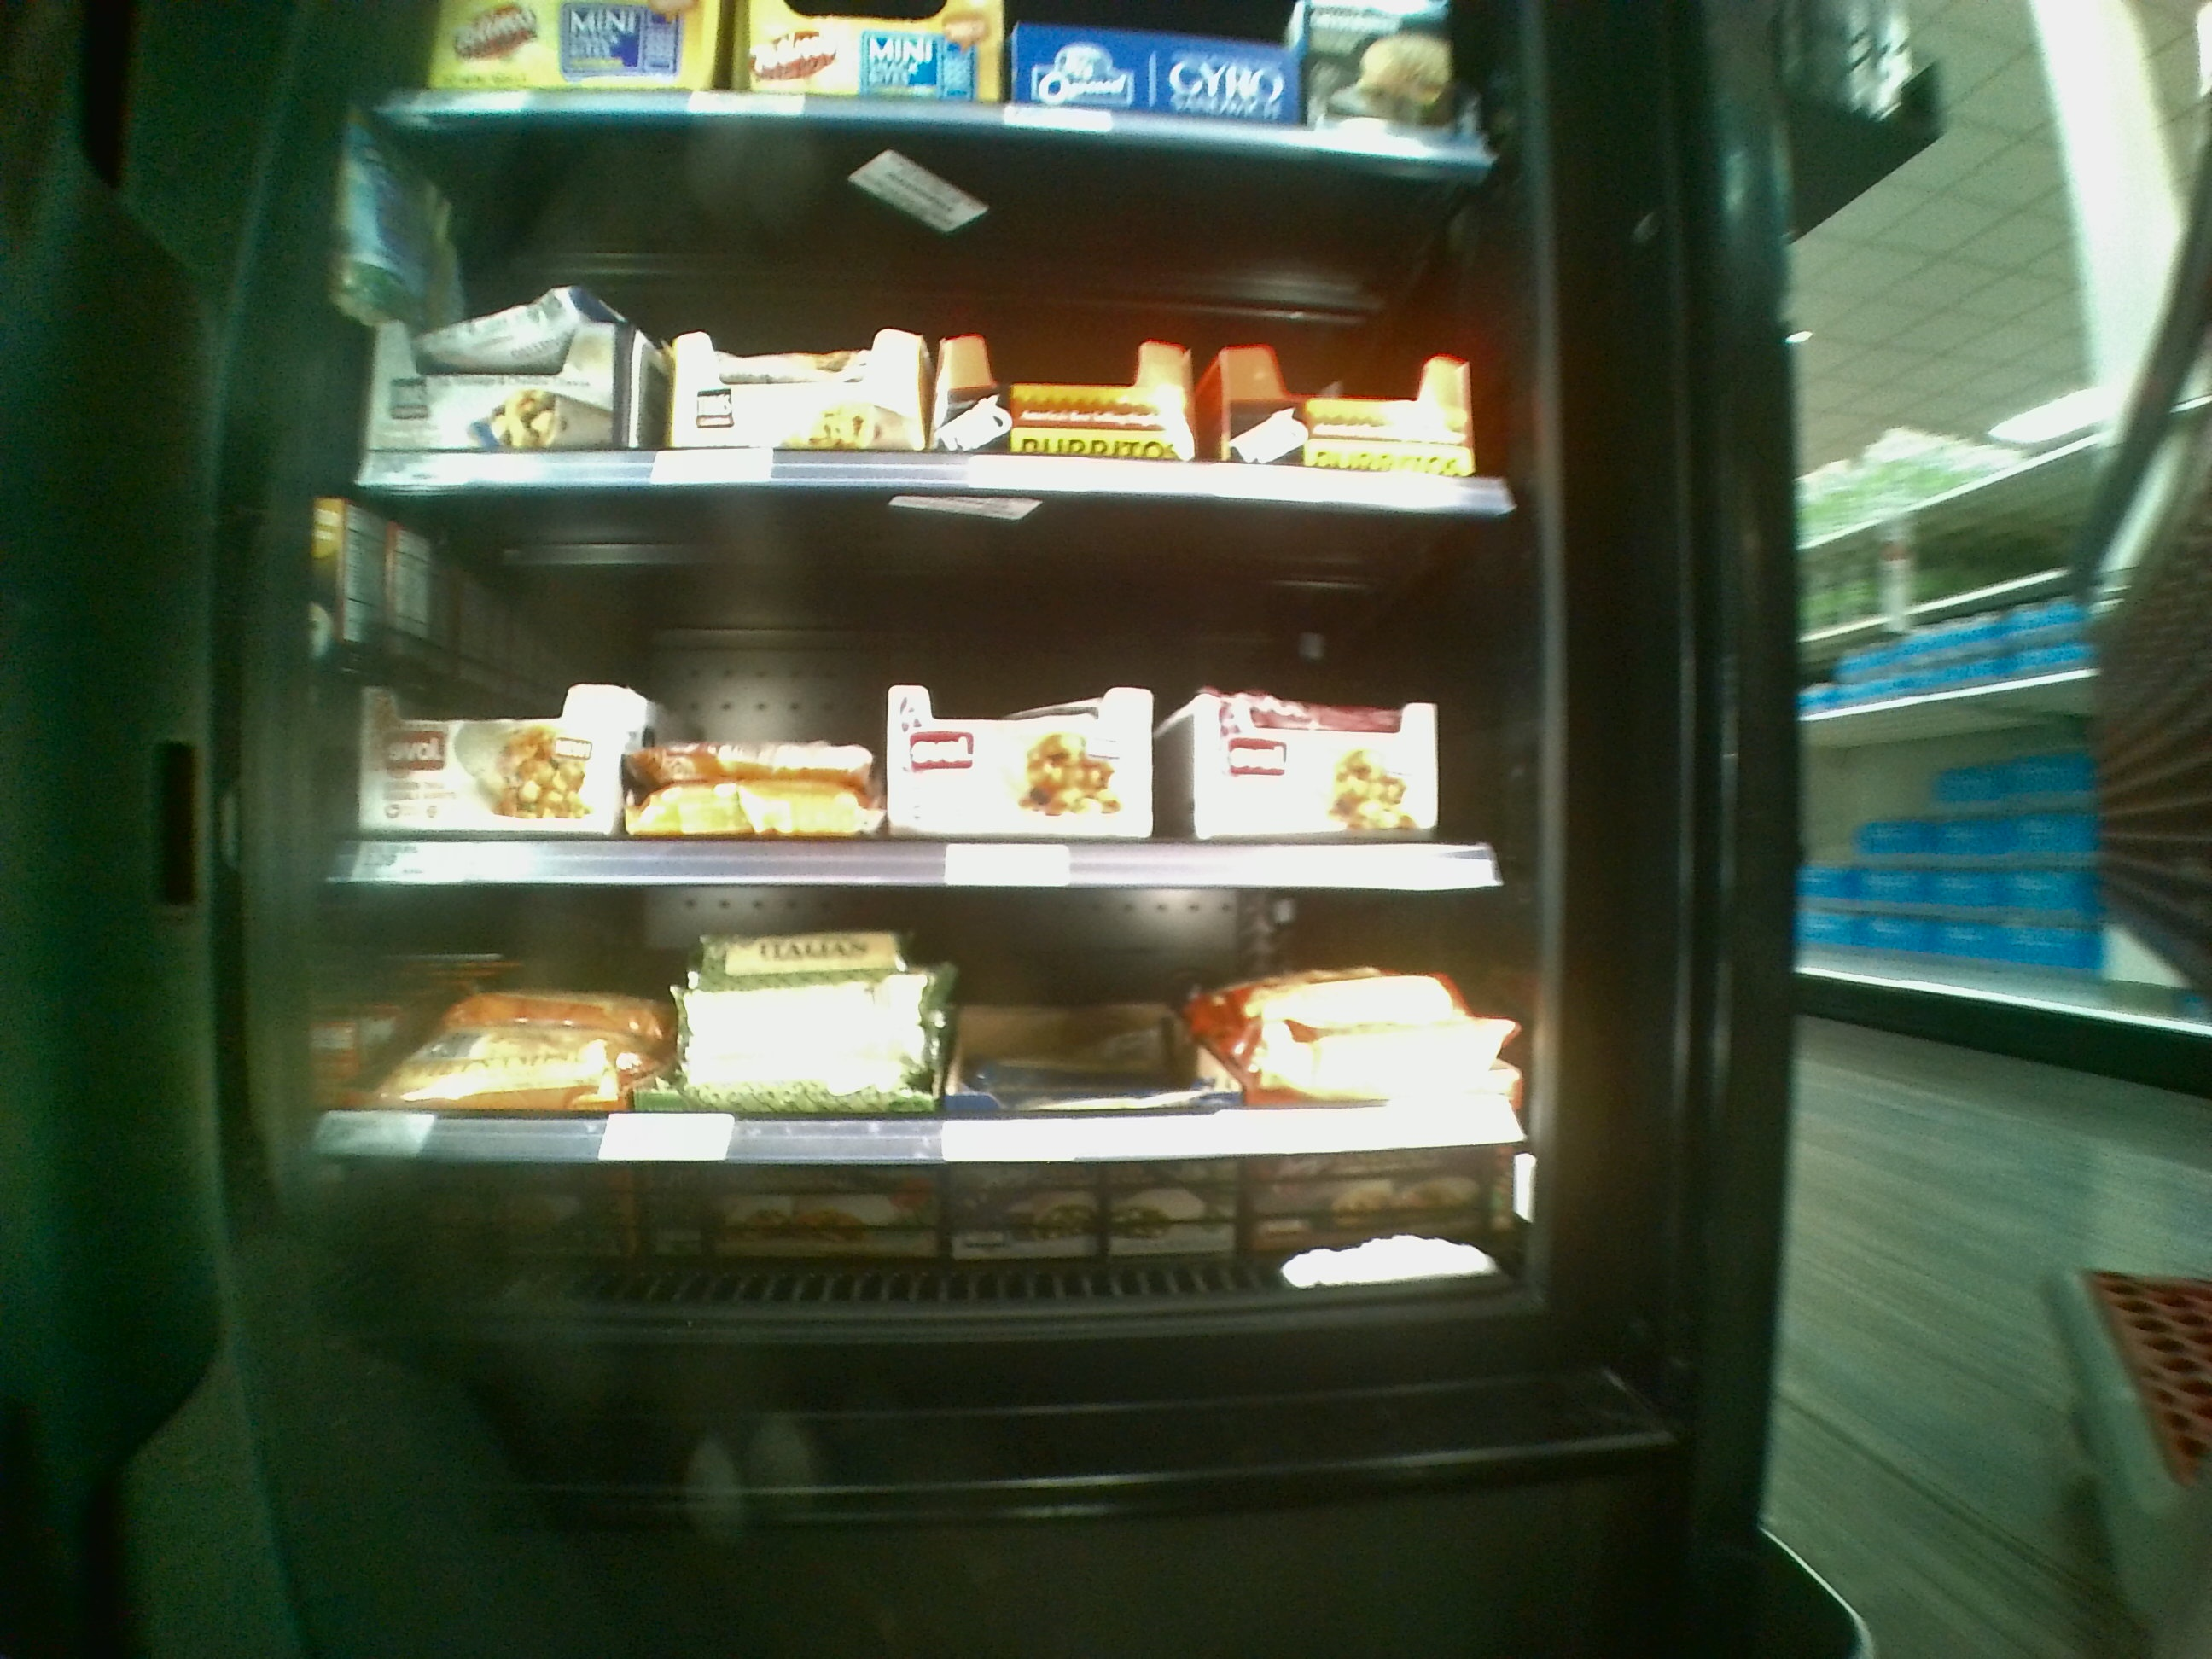shelf: (340, 910, 1545, 1312), (361, 122, 1514, 518), (357, 509, 1524, 897)
